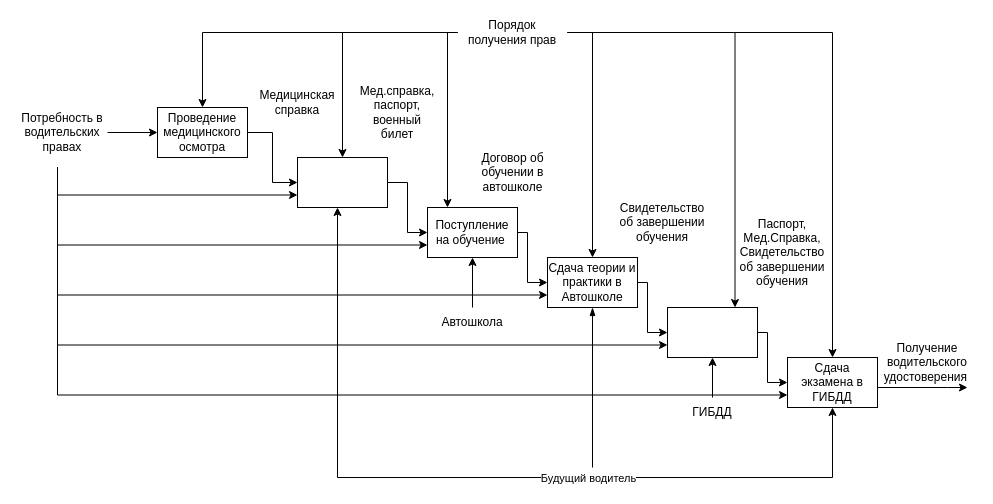
Image size: 993x504. Some labels were removed from this diagram. Each missing label, with the centre of its shape:
"Подача документов" belongs at point 712,332.
"Сбор пакета документов" belongs at point 342,182.
